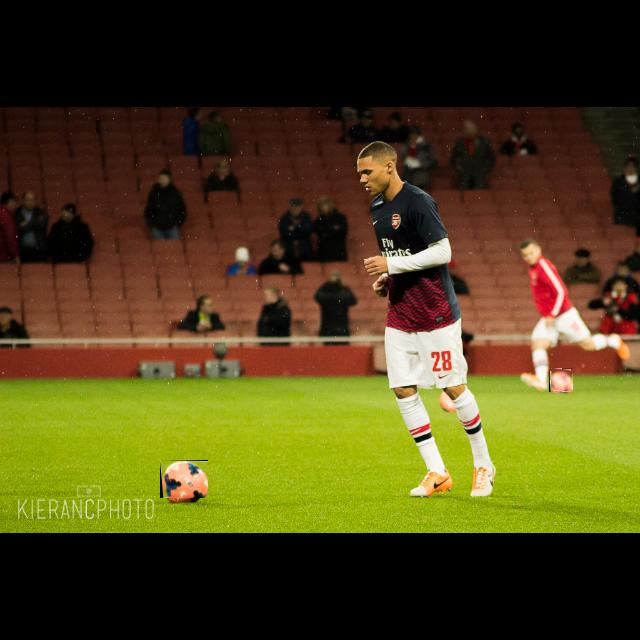Football: (160, 460, 208, 498), (549, 368, 573, 392)
